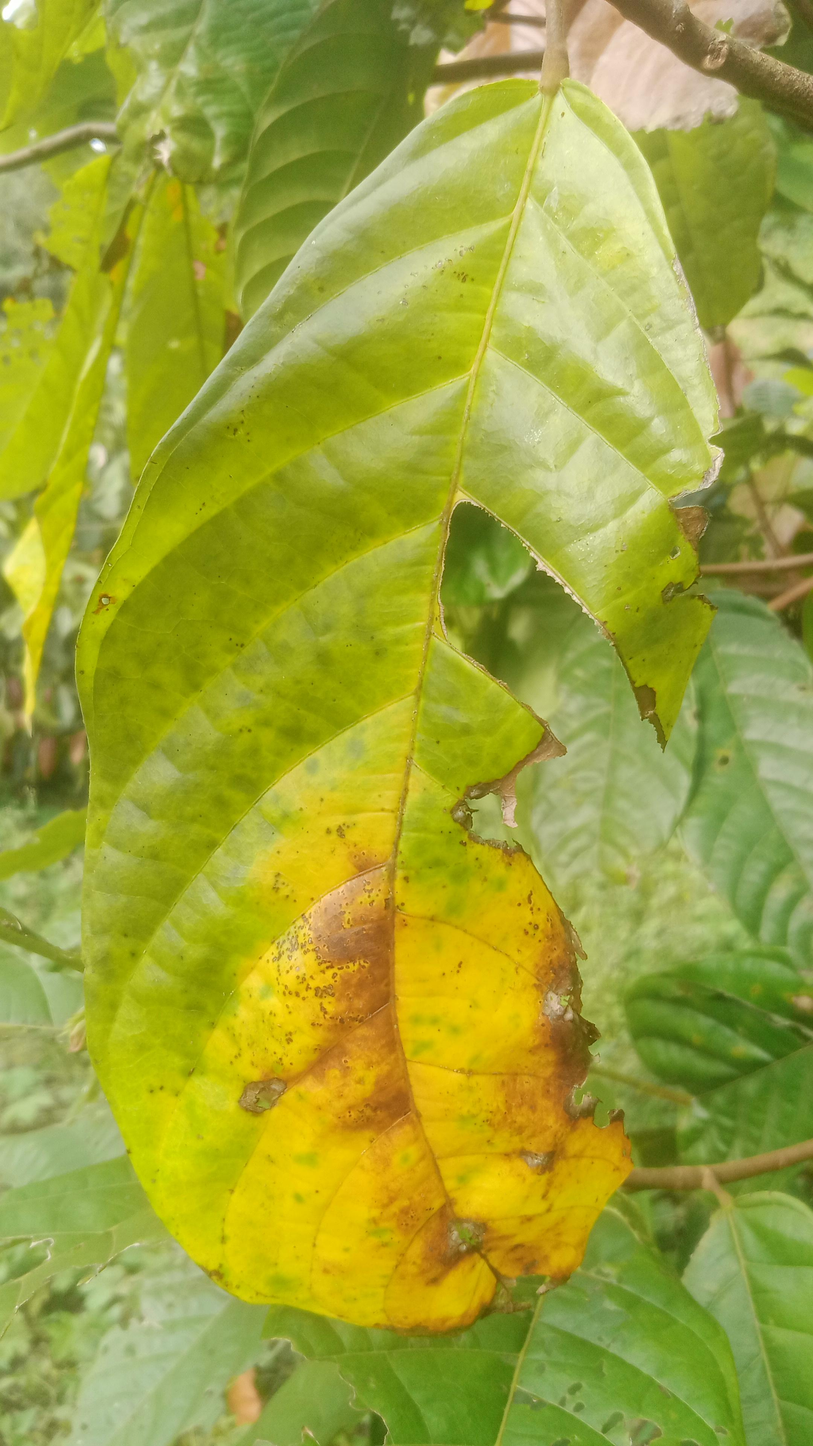deficiencia_potasio: (72, 79, 719, 1341)
